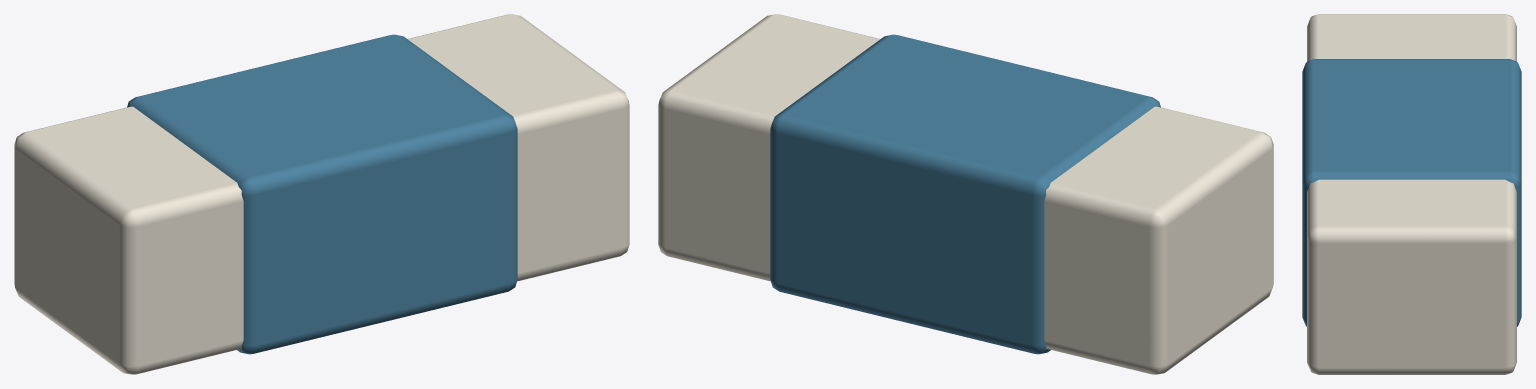
Rendered from wp-gomme.glb.
3 views of the same model, side by side, from view 1: azimuth 30°, elevation 25°; view 2: azimuth 150°, elevation 25°; view 3: azimuth 270°, elevation 25° (orthographic). The views are drawn at different scales.
Visible parts, largest first — view 1: wp-gomme; view 2: wp-gomme; view 3: wp-gomme.
Part boxes in pixels (left/top/right/bottom): wp-gomme: left=14, top=14, right=629, bottom=374; wp-gomme: left=658, top=14, right=1273, bottom=374; wp-gomme: left=1302, top=14, right=1521, bottom=374.
Bounding box in the file's own units: 0.06 × 0.02 × 0.025.
